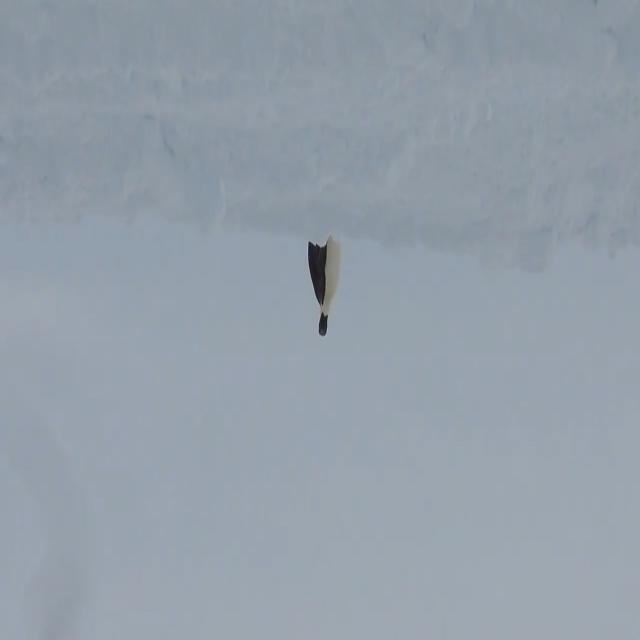penguin: (304, 233, 342, 337)
